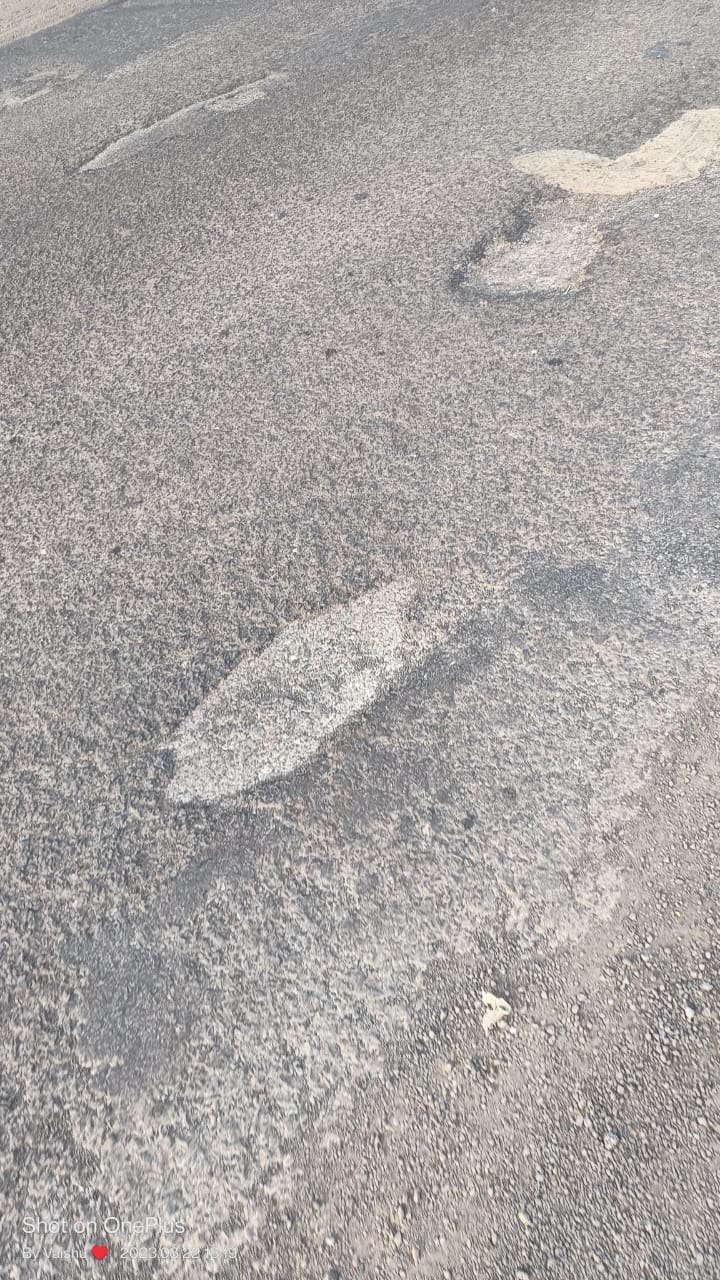Pothole: (127, 567, 435, 816), (441, 108, 710, 314)
